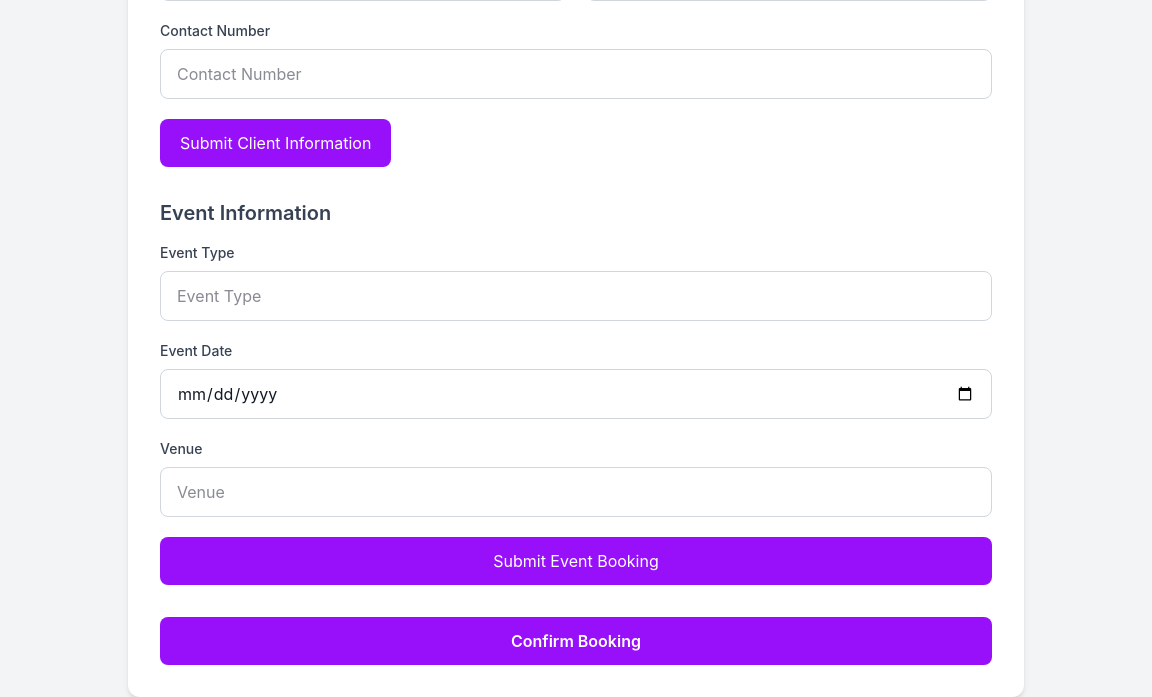
Scenario: BookingForm Component › shows error message when all fields are empty
(page scrolled)
Click the button "Confirm Booking" at {"x": 576, "y": 641}, box [160, 617, 992, 665]
(page scrolled)
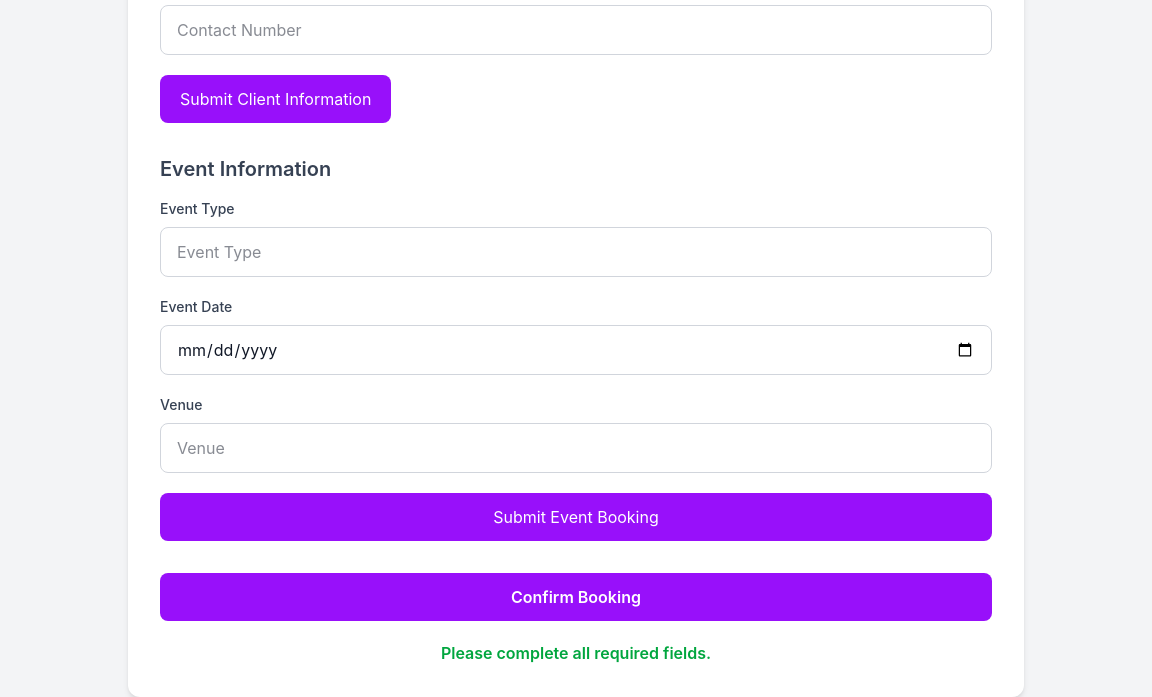
Check: the text "Please complete all required fields." is shown, box [441, 643, 711, 663]
